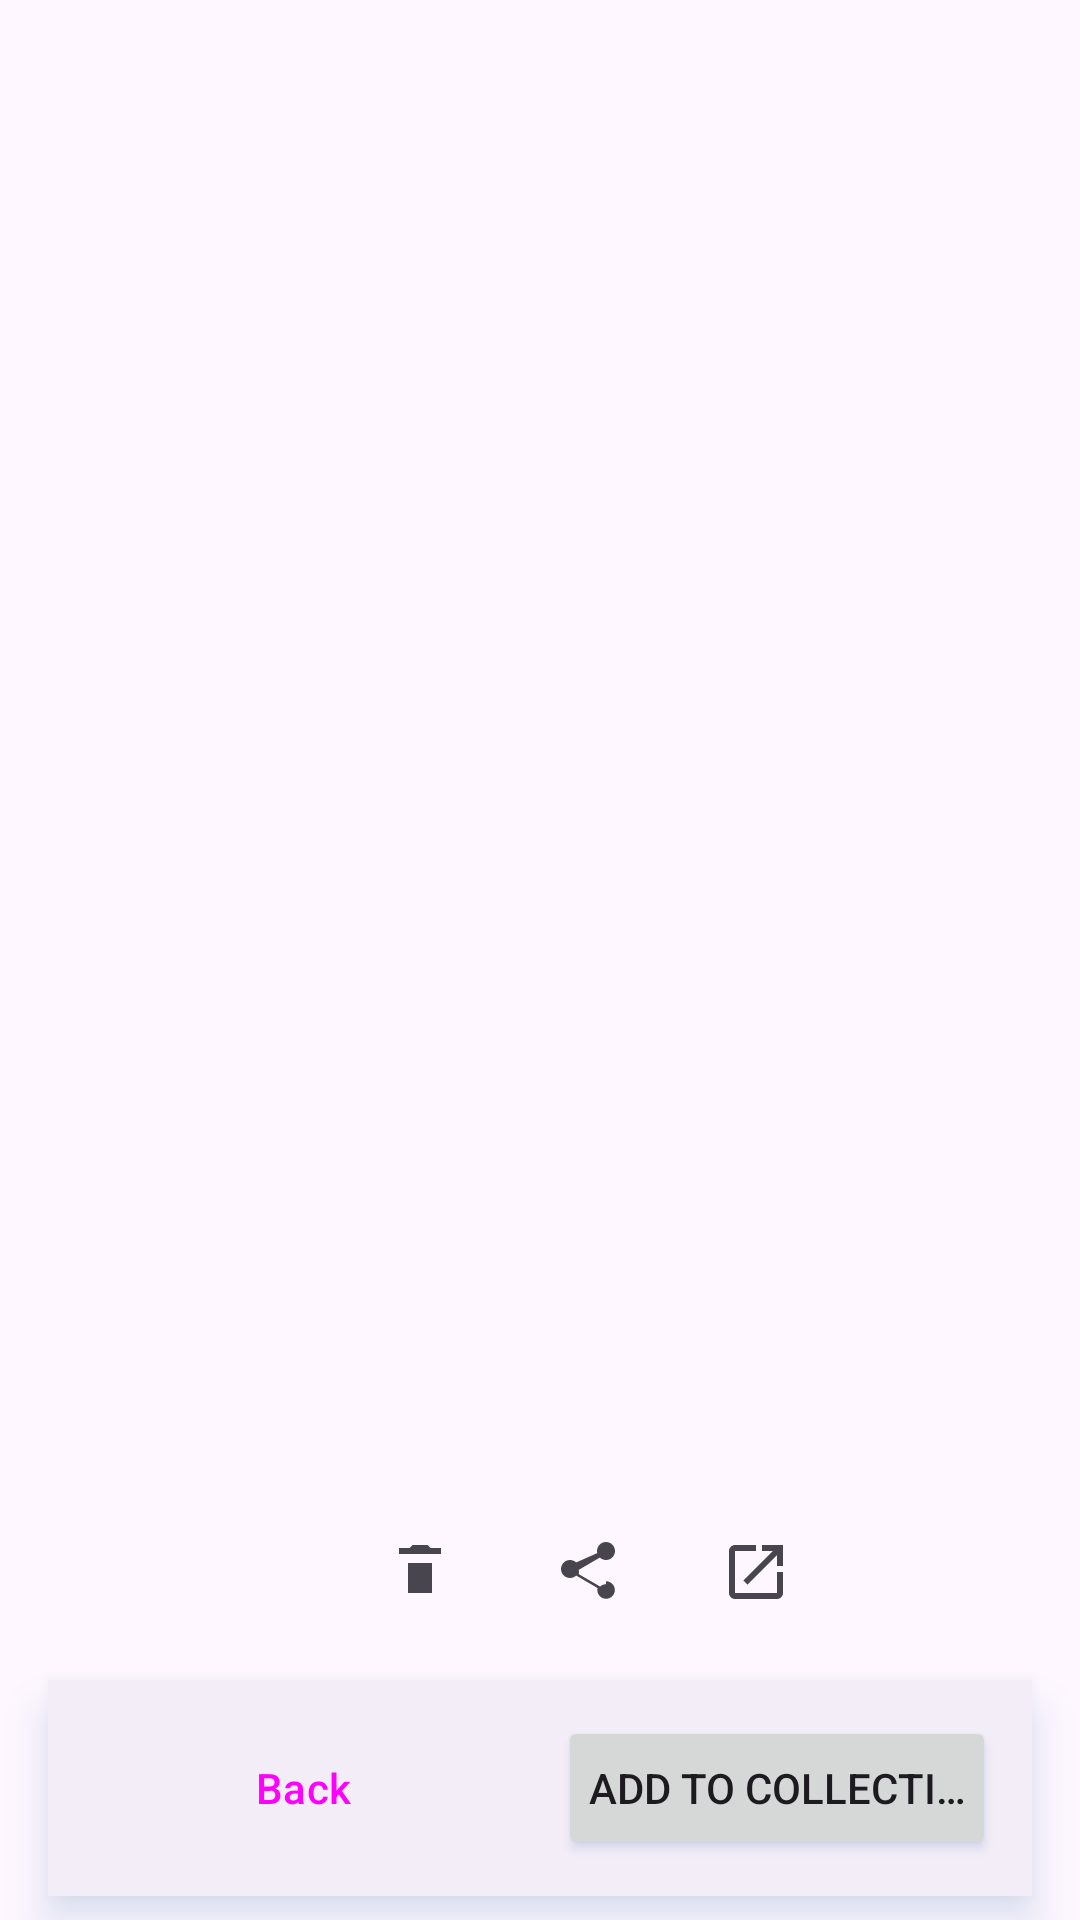

Locate icon controls on the screen. Image size 1080*1920, boxes as {"left": x1, "top": y1, "right": x2, "bottom": y2}.
Delete: {"left": 399, "top": 1545, "right": 441, "bottom": 1593}
Export: {"left": 729, "top": 1545, "right": 783, "bottom": 1599}
Share: {"left": 561, "top": 1542, "right": 615, "bottom": 1599}
